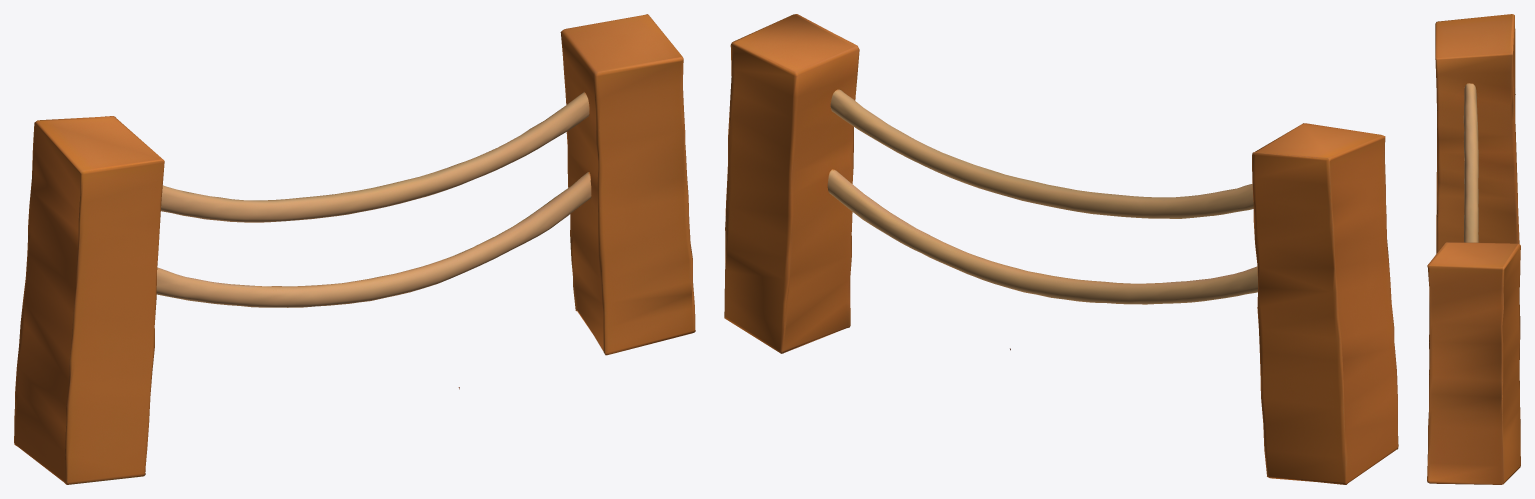
File: ropeBarricade.glb
3 views of the same model, side by side, from view 1: azimuth 30°, elevation 25°; view 2: azimuth 150°, elevation 25°; view 3: azimuth 270°, elevation 25° (orthographic). The views are drawn at different scales.
Bounding box in the file's own units: 1 × 0.5039 × 0.168.
1 material, 1 textured.
